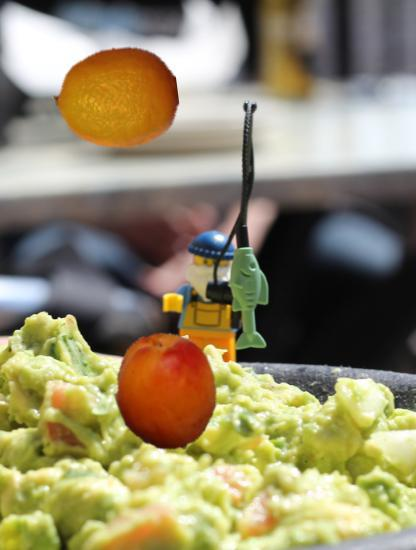Apricot: (106, 332, 226, 452)
Lemon: (53, 35, 179, 161)
